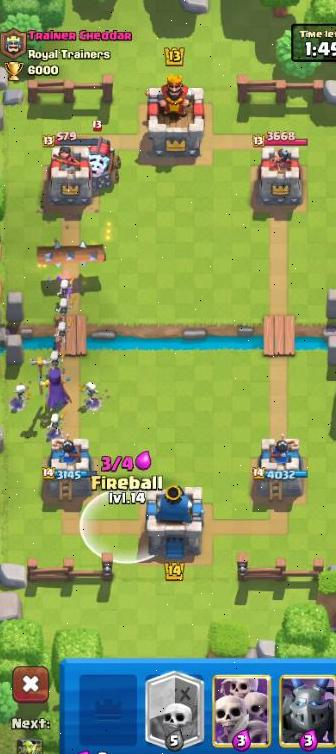enemy_log: (27, 200, 122, 273)
enemy_sparky: (80, 130, 124, 189)
player_skeletons: (7, 379, 34, 412), (50, 315, 77, 348), (79, 379, 106, 411), (49, 294, 77, 321), (42, 412, 67, 439), (53, 273, 77, 298)
player_witch: (35, 353, 74, 423)
